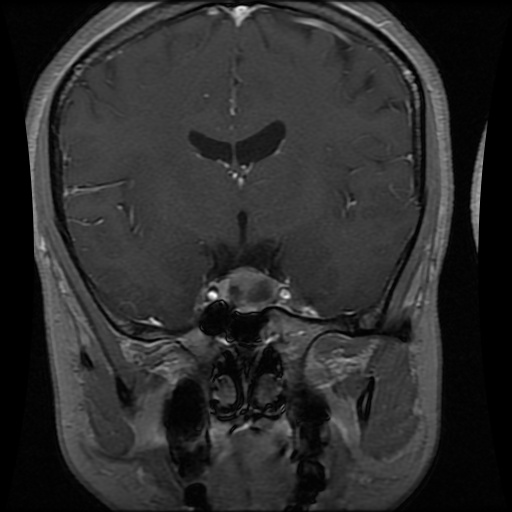pituitary: (218, 267, 280, 311)
